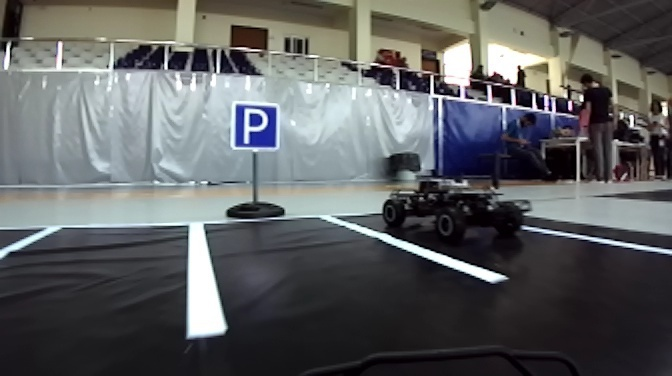park: (231, 101, 282, 153)
